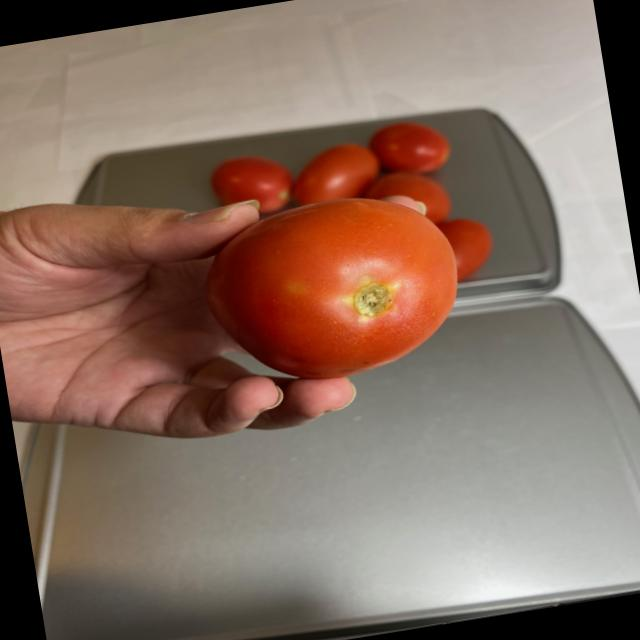tomato: (191, 181, 479, 393)
